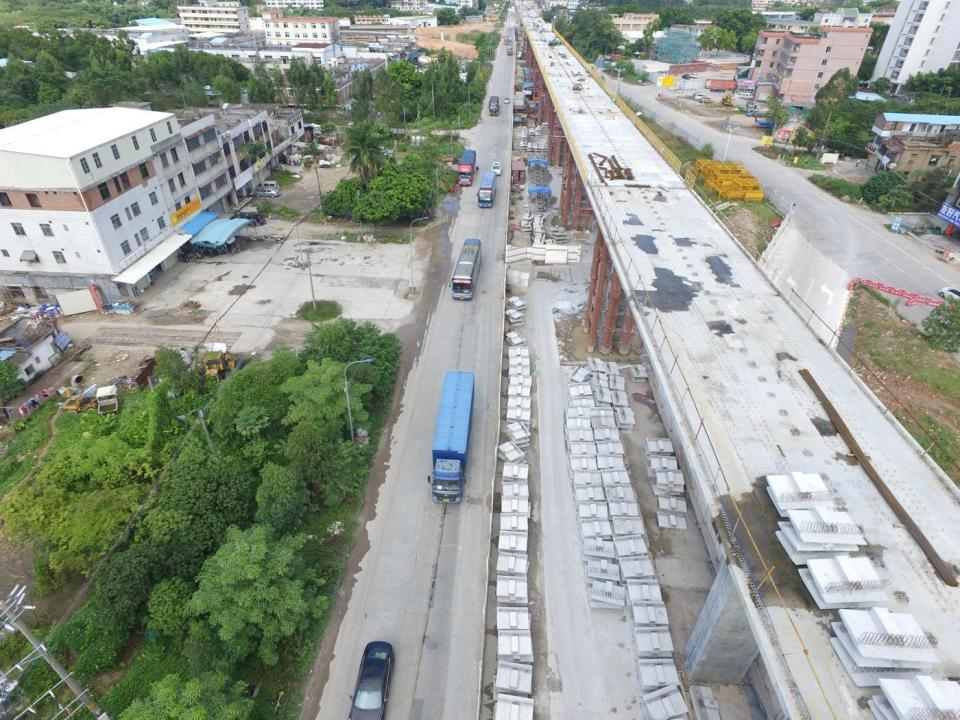bus: (452, 237, 480, 300), (477, 172, 496, 207), (490, 96, 497, 116), (507, 46, 512, 54), (504, 36, 508, 44), (510, 37, 512, 41)
car: (350, 640, 393, 720), (204, 349, 236, 381), (212, 230, 236, 246), (138, 258, 156, 276), (254, 187, 280, 198), (940, 285, 960, 298), (246, 214, 264, 224), (700, 97, 713, 103), (711, 86, 724, 92), (493, 163, 500, 174), (746, 100, 754, 107), (504, 96, 510, 104), (682, 73, 690, 79), (690, 74, 697, 78)
truck: (427, 371, 475, 503), (457, 150, 476, 185), (747, 108, 768, 118), (758, 92, 774, 103), (517, 52, 536, 61), (441, 157, 459, 164), (661, 74, 673, 80)
van: (257, 180, 280, 189), (692, 92, 709, 99), (740, 92, 753, 100)
